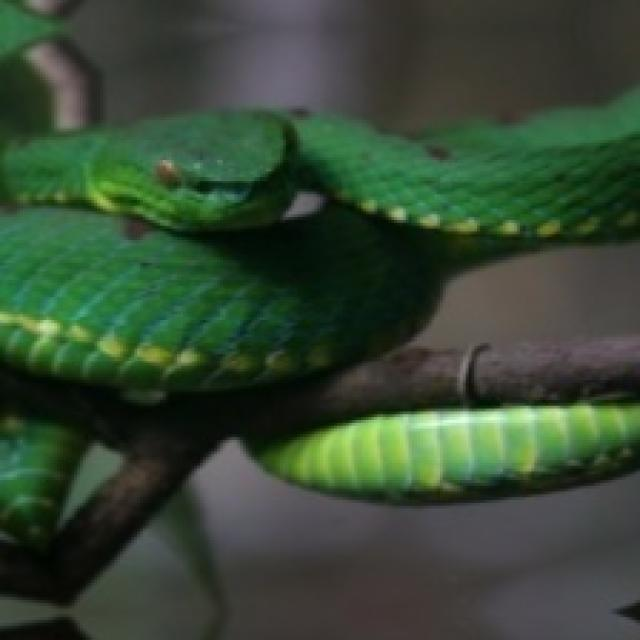philippine pitviper: (0, 0, 637, 637)
